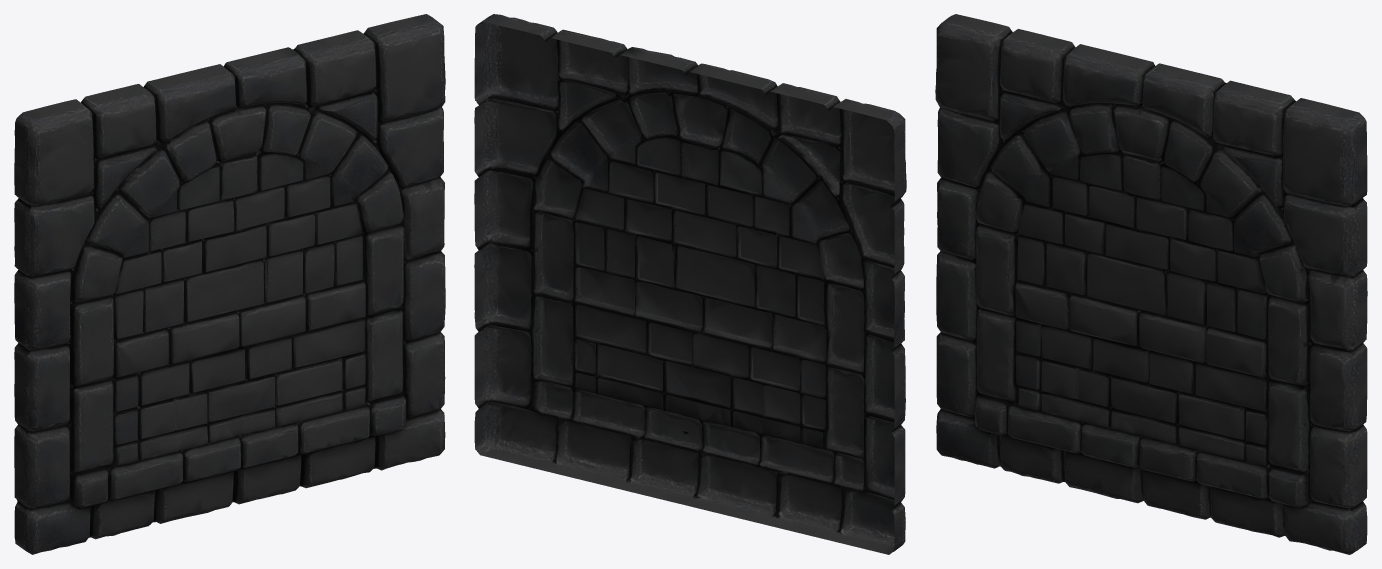
Rendered from Wall_Shrine_Generic2.fbx.
3 renders of one model, left to right at view 1: azimuth 30°, elevation 25°; view 2: azimuth 150°, elevation 25°; view 3: azimuth 330°, elevation 25°, orthographic.
Visible parts, largest first — view 1: Walls_Shrine_extra; view 2: Walls_Shrine_extra; view 3: Walls_Shrine_extra.
Part boxes in pixels (x1=…): Walls_Shrine_extra: x1=14, y1=14, x2=445, y2=554; Walls_Shrine_extra: x1=474, y1=14, x2=906, y2=554; Walls_Shrine_extra: x1=935, y1=14, x2=1367, y2=554.
Bounding box in the file's own units: 307 × 303 × 25.64.
